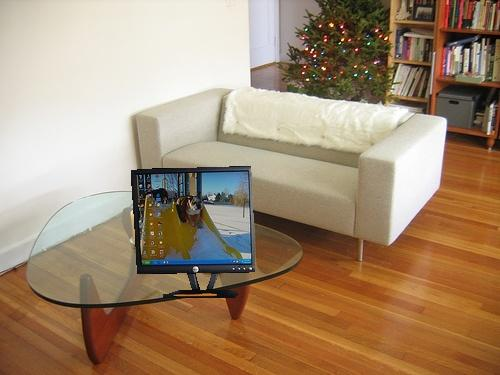tampered: (132, 167, 255, 298)
